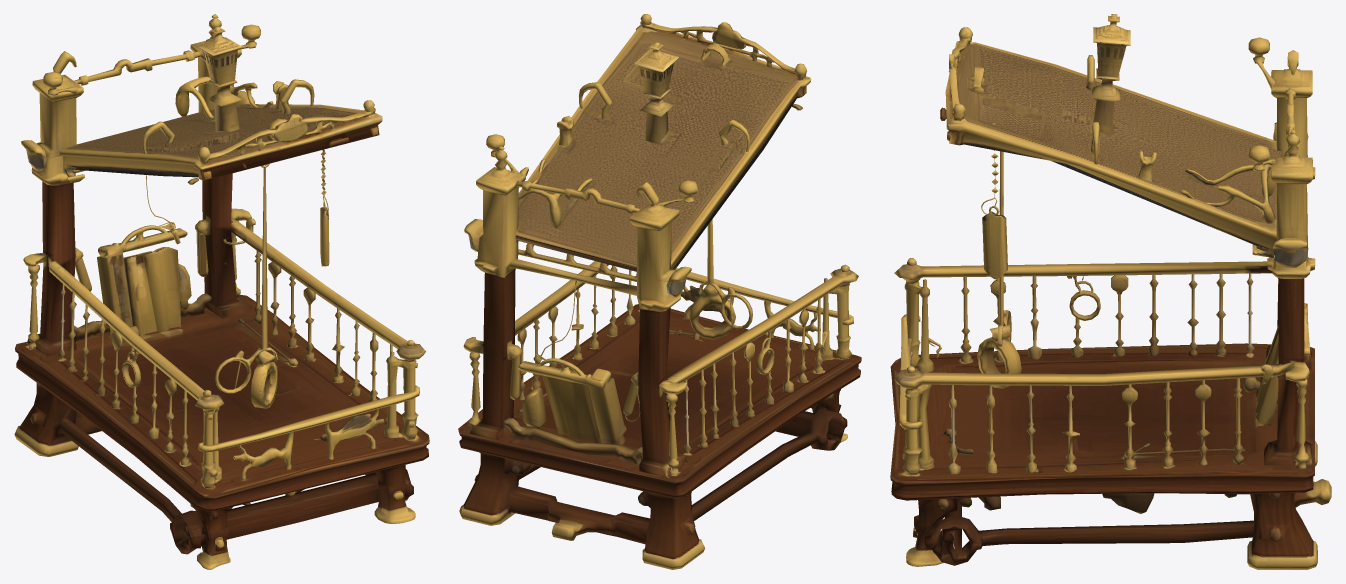
File: library-lift.glb
3 renders of one model, left to right at view 1: azimuth 30°, elevation 25°; view 2: azimuth 150°, elevation 25°; view 3: azimuth 270°, elevation 25°, orthographic. The views are drawn at different scales.
Visible parts, largest first — view 1: tripo_3979910e_e947_428b_89f9_d74993766925; view 2: tripo_3979910e_e947_428b_89f9_d74993766925; view 3: tripo_3979910e_e947_428b_89f9_d74993766925.
Part boxes in pixels (x1,y1,x2,y2): tripo_3979910e_e947_428b_89f9_d74993766925: [14, 14, 429, 569]; tripo_3979910e_e947_428b_89f9_d74993766925: [458, 14, 861, 569]; tripo_3979910e_e947_428b_89f9_d74993766925: [890, 14, 1331, 569].
Size of the model in its own units: 0.5415 by 0.9995 by 0.8091.
1 material, 1 textured.
